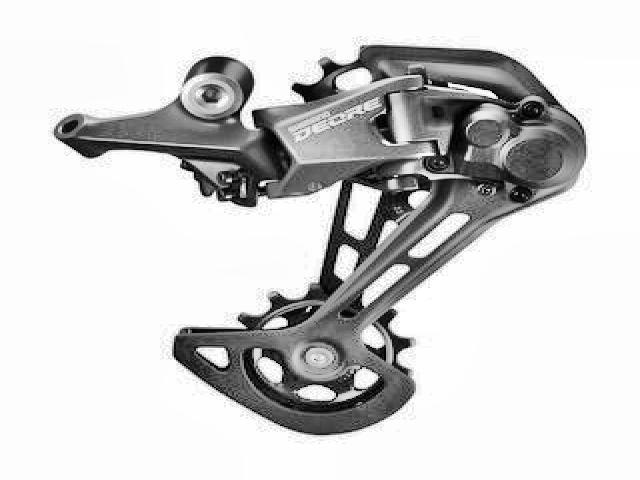rear_derailleur: (49, 42, 595, 441)
